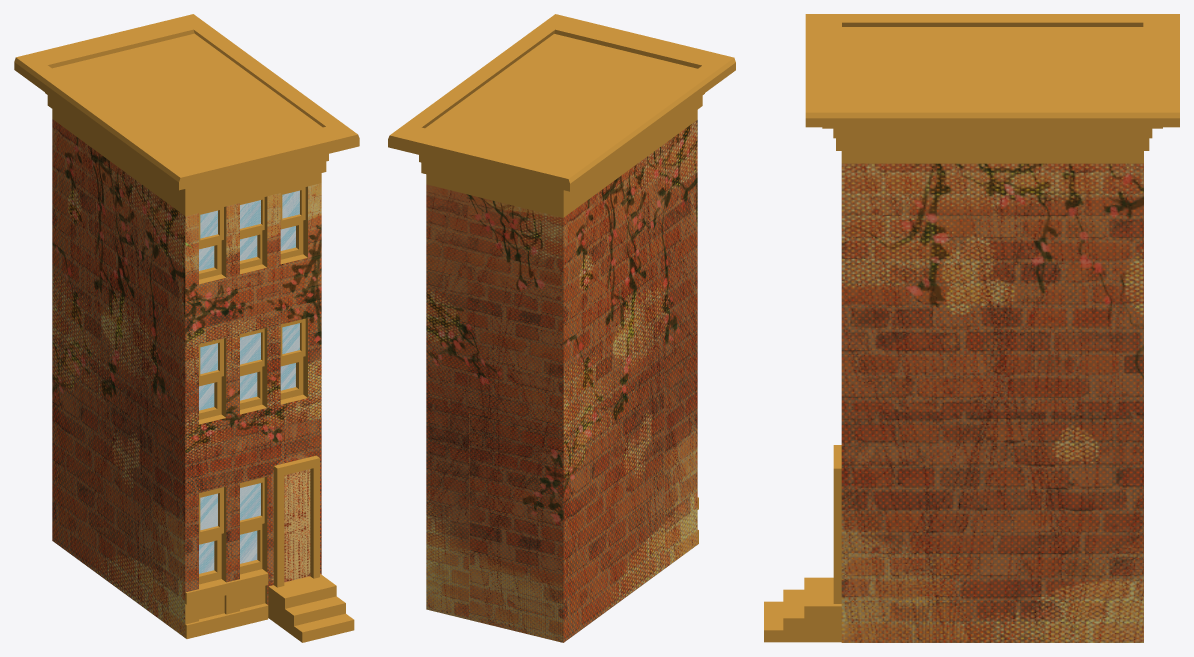
The model's file is build1.fbx.
3 views of the same model, side by side, from view 1: azimuth 30°, elevation 25°; view 2: azimuth 150°, elevation 25°; view 3: azimuth 270°, elevation 25° (orthographic). The views are drawn at different scales.
Parts seen in each view (by area): view 1: pCube3; view 2: pCube3; view 3: pCube3.
Boxes of the visible parts, x1,y1,x2,y2 form: pCube3: [14, 14, 359, 642]; pCube3: [388, 14, 735, 642]; pCube3: [764, 14, 1179, 642].
Bounding box in the file's own units: 5.97 × 15.07 × 10.47.
